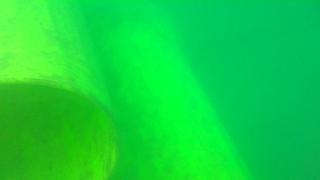pipe: (83, 1, 255, 179), (1, 1, 120, 179)
